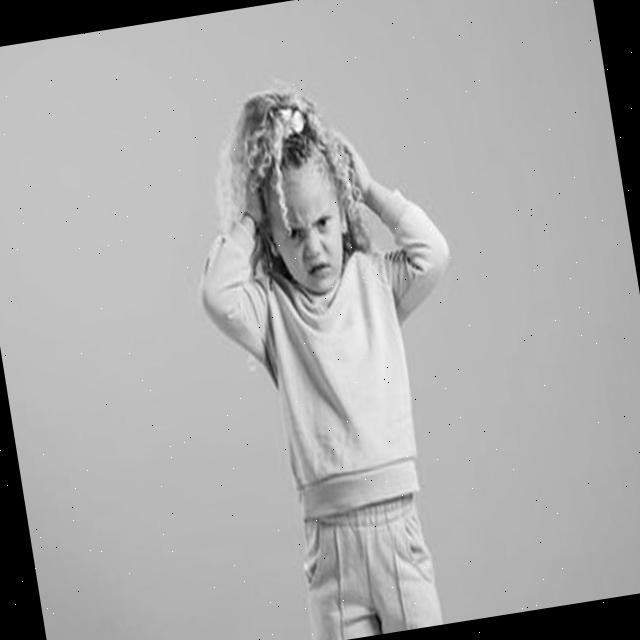Angry: (262, 160, 350, 300)
